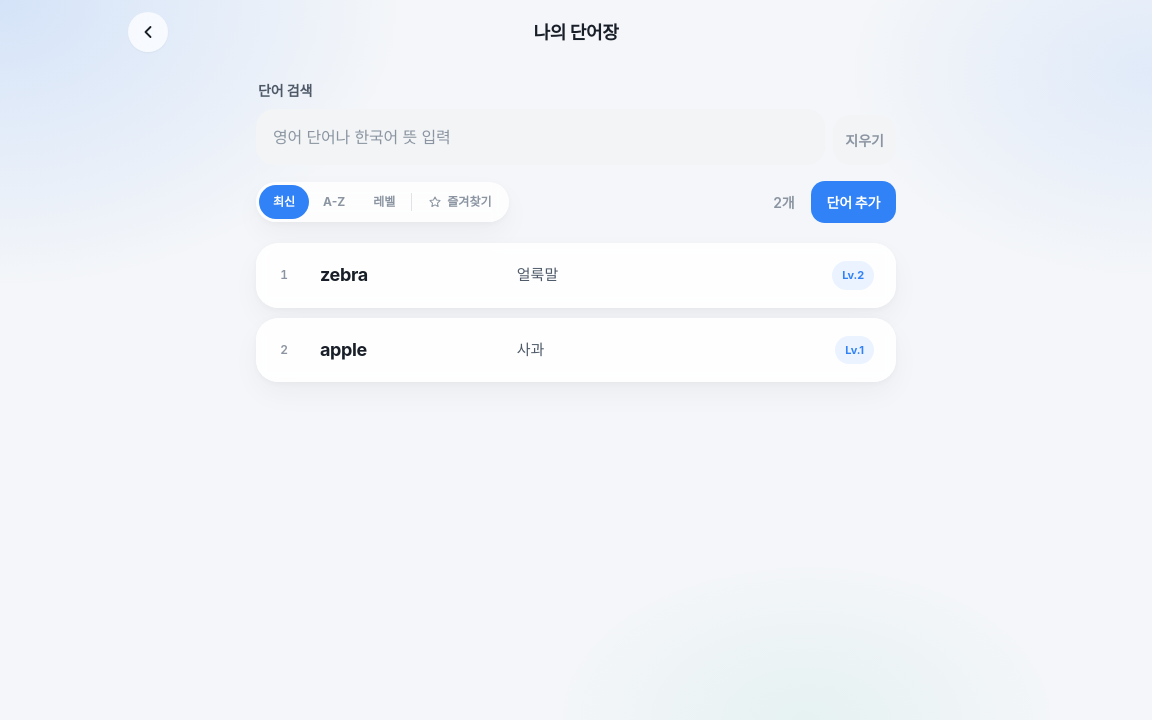
Test: words page › shows only favorite words when the favorite filter is active
The width and height of the screenshot is (1152, 720).
Expected: the button "1 zebra 얼룩말 Lv.2" is shown, top-left (256, 243), bottom-right (896, 308)
Step 1. Click the button "즐겨찾기" → (460, 202), box top-left (414, 185), bottom-right (506, 219)
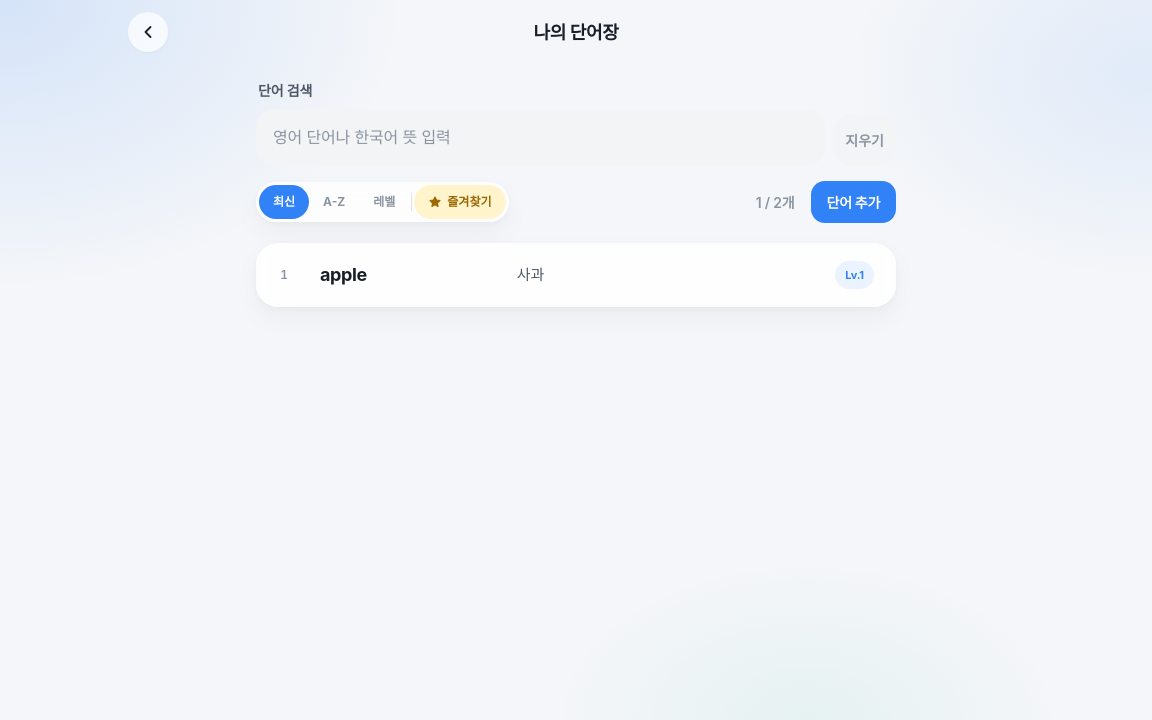
Expected: the button "1 apple 사과 Lv.1" is shown, top-left (256, 243), bottom-right (896, 308)
Now the button "zebra" is gone
Now the message reads "1 / 2개", box top-left (756, 194), bottom-right (794, 210)
